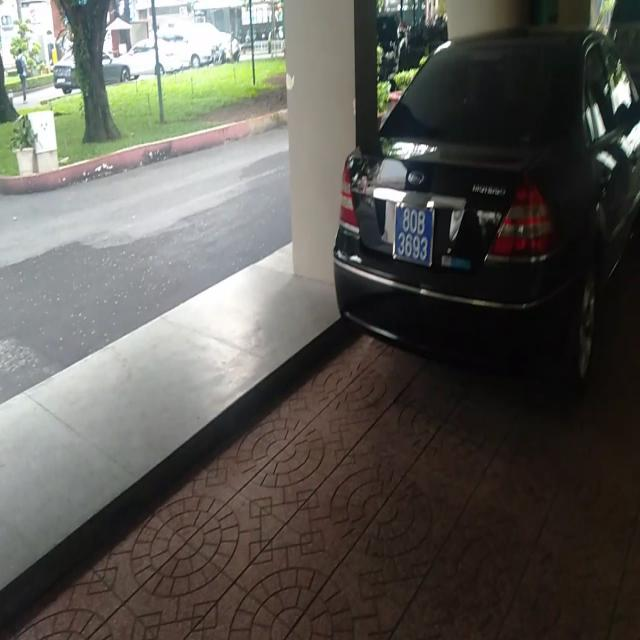bien_xanh: (392, 196, 438, 275)
